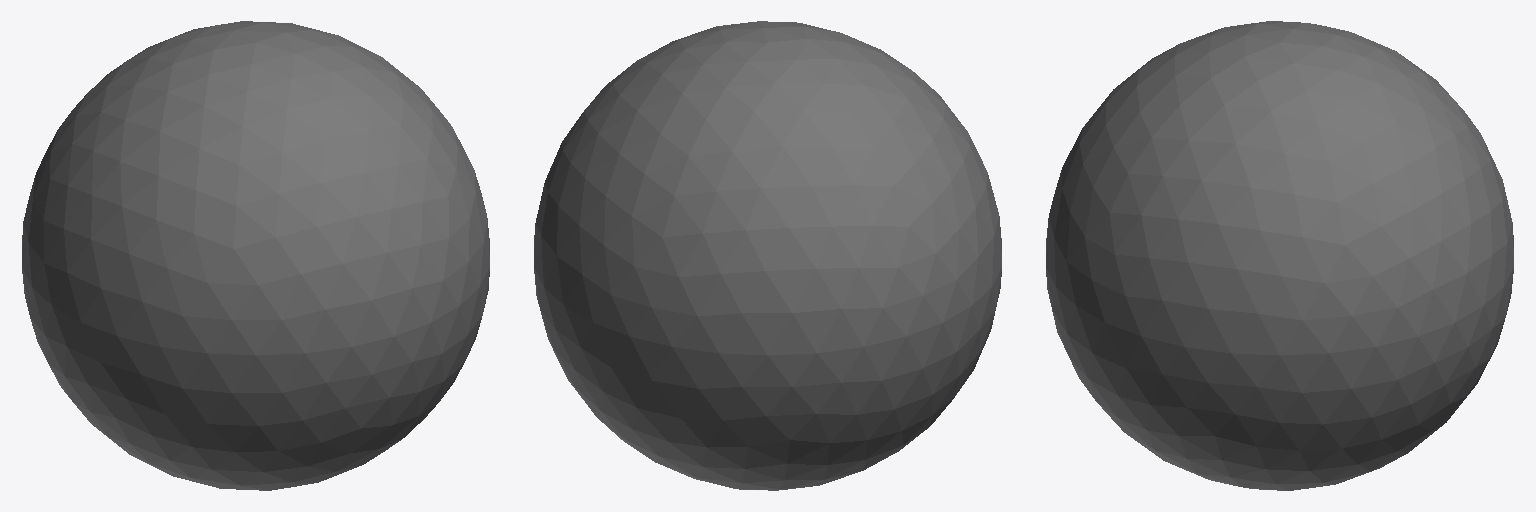
The model's file is hdri-ca-sky.obj.
3 views of the same model, side by side, from view 1: azimuth 30°, elevation 25°; view 2: azimuth 150°, elevation 25°; view 3: azimuth 270°, elevation 25° (orthographic).
Parts seen in each view (by area): view 1: hdri-ca-sky.obj; view 2: hdri-ca-sky.obj; view 3: hdri-ca-sky.obj.
Boxes of the visible parts, box(x1,y1,x2,y2) form: hdri-ca-sky.obj: box(22, 21, 489, 490); hdri-ca-sky.obj: box(534, 21, 1001, 490); hdri-ca-sky.obj: box(1046, 21, 1513, 490).
Size of the model in its own units: 6900 by 6900 by 6862.